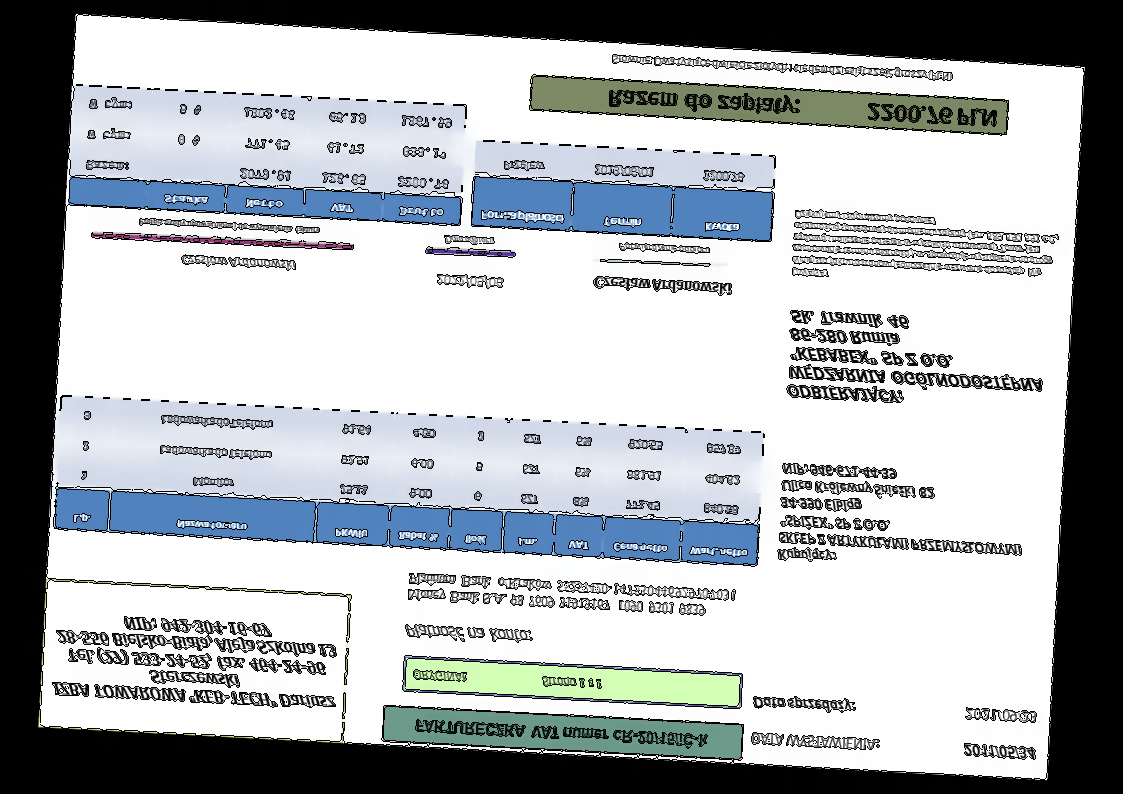Table: (52, 393, 767, 569), (66, 83, 468, 228), (469, 138, 777, 245)
TextBox: (49, 608, 341, 715), (774, 459, 1030, 577), (784, 306, 1049, 413), (789, 206, 1062, 294), (605, 84, 1000, 131), (403, 570, 739, 622), (608, 50, 955, 85), (413, 716, 711, 752), (409, 666, 604, 695), (135, 215, 323, 238), (590, 273, 735, 300), (401, 620, 535, 648), (748, 729, 881, 755), (179, 252, 299, 276), (751, 692, 858, 717), (615, 239, 712, 258), (961, 741, 1039, 764), (962, 705, 1039, 727), (434, 271, 504, 291), (440, 233, 496, 248)
